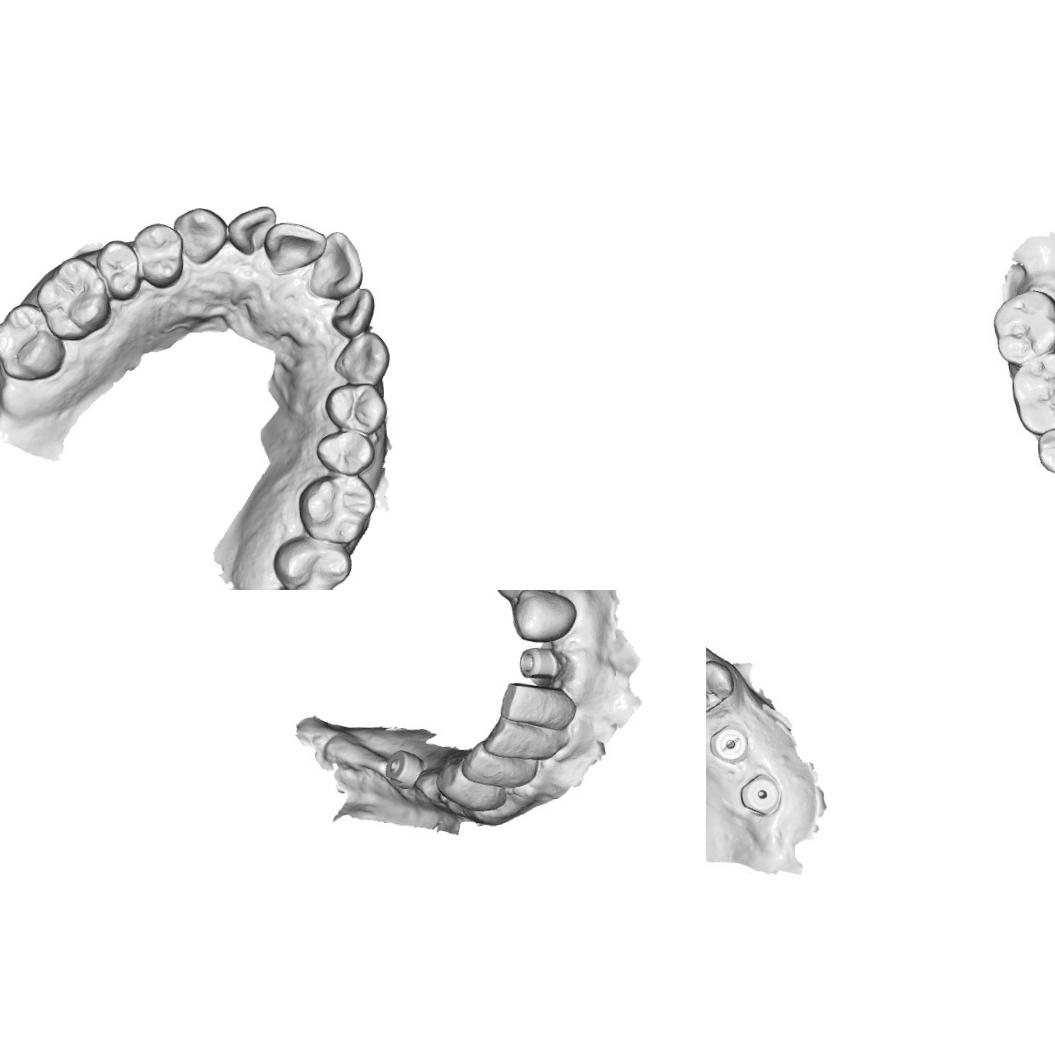canine: (170, 204, 228, 266), (330, 330, 392, 386)
implant: (509, 640, 570, 685), (378, 746, 427, 794), (738, 770, 785, 816)
implant_minus: (710, 724, 749, 765)
incisor: (494, 673, 581, 731), (476, 710, 574, 761), (450, 738, 544, 788), (303, 228, 364, 302), (422, 765, 510, 812), (262, 218, 328, 276), (225, 204, 279, 256), (328, 286, 376, 340)
molar: (33, 253, 114, 343), (295, 470, 378, 546), (0, 299, 66, 382), (270, 532, 354, 590), (990, 293, 1055, 357), (1012, 357, 1055, 428)
premolar: (501, 590, 579, 641), (130, 221, 185, 290), (322, 381, 389, 437), (94, 236, 142, 303), (312, 427, 376, 477), (706, 658, 735, 716), (1034, 423, 1055, 471)
